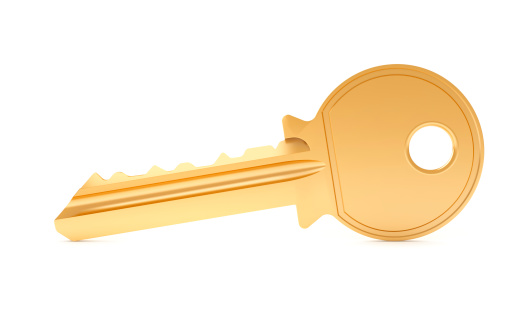key: (42, 67, 489, 256)
